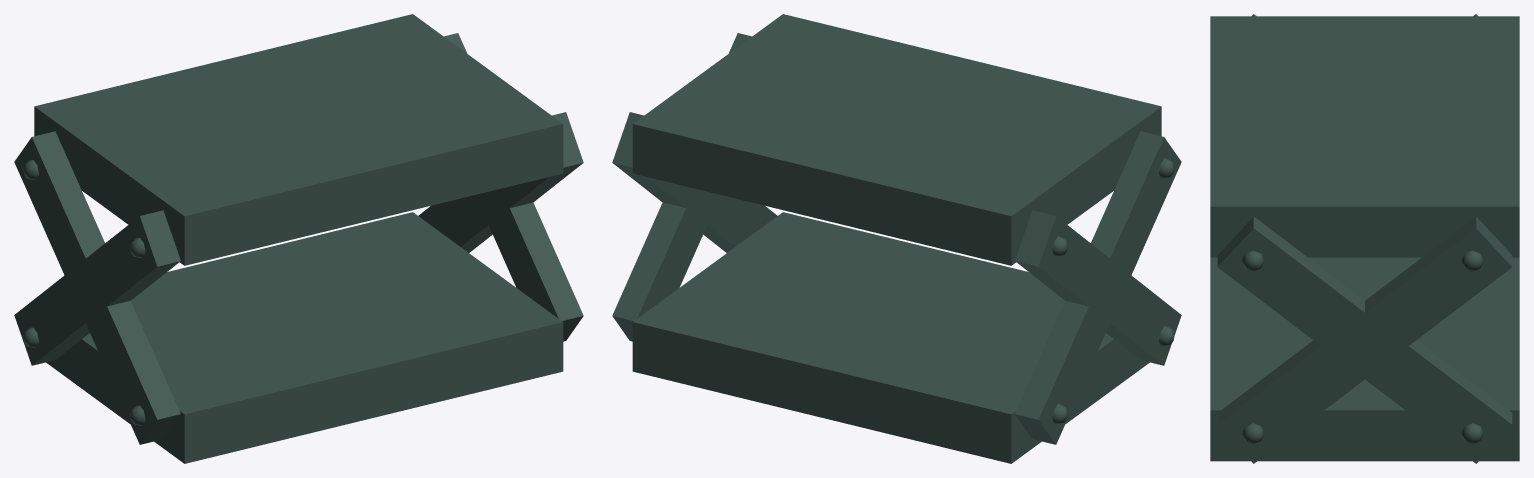
The model's file is Girder.FBX.
3 views of the same model, side by side, from view 1: azimuth 30°, elevation 25°; view 2: azimuth 150°, elevation 25°; view 3: azimuth 270°, elevation 25° (orthographic). The views are drawn at different scales.
Visible parts, largest first — view 1: Box003, Box001, Box005, Box004, Box007, Box006; view 2: Box003, Box001, Box004, Box005, Box006, Box007; view 3: Box003, Box001, Box006, Box007, Sphere005, Sphere008, Sphere007, Sphere006.
Boxes of the visible parts, box(x1,y1,x2,y2) form: Box003: box(34, 14, 563, 265); Box001: box(46, 212, 563, 463); Box005: box(14, 131, 180, 444); Box004: box(14, 210, 180, 365); Box007: box(444, 33, 583, 341); Box006: box(418, 112, 583, 252); Box003: box(632, 14, 1161, 265); Box001: box(632, 212, 1149, 463); Box004: box(1015, 131, 1181, 444); Box005: box(1015, 210, 1181, 365); Box006: box(612, 33, 751, 341); Box007: box(612, 112, 777, 252); Box003: box(1210, 16, 1519, 257); Box001: box(1210, 257, 1519, 461); Box006: box(1217, 216, 1512, 463); Box007: box(1217, 216, 1512, 463); Sphere005: box(1242, 423, 1264, 443); Sphere008: box(1461, 250, 1483, 271); Sphere007: box(1242, 250, 1264, 271); Sphere006: box(1461, 423, 1483, 443).
Bounding box in the file's own units: 188 × 100 × 110.
